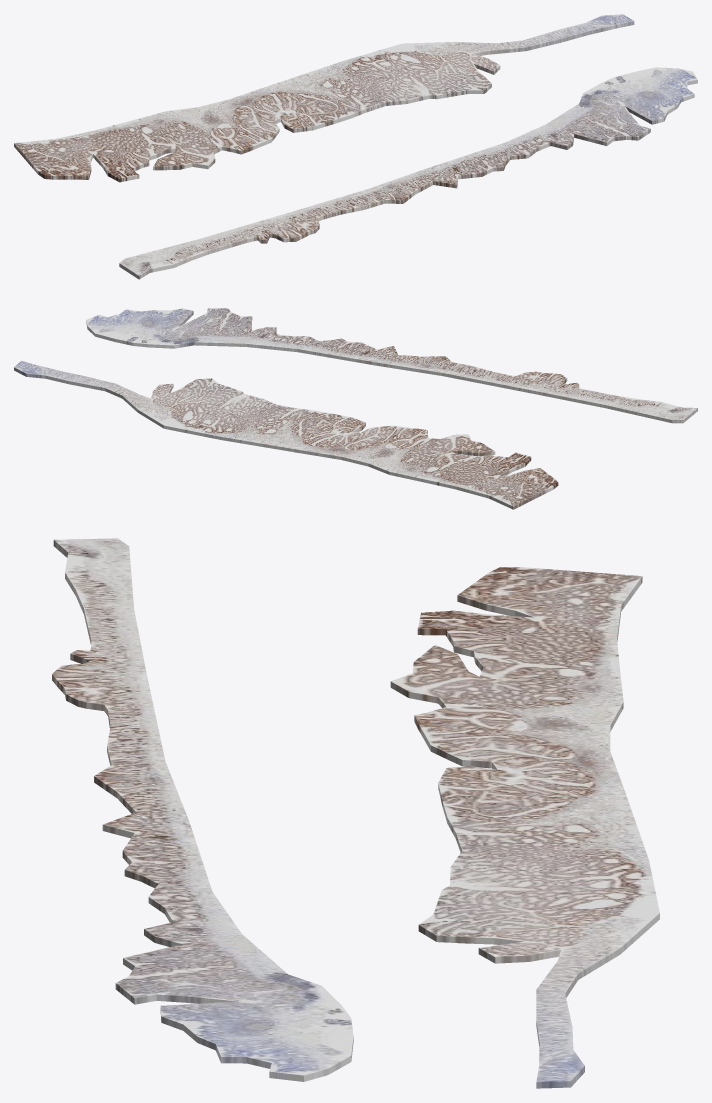
The picture shows the model from 3 angles, top to bottom: view 1: azimuth 30°, elevation 25°; view 2: azimuth 150°, elevation 25°; view 3: azimuth 270°, elevation 25°; orthographic projection. The views are drawn at different scales.
Visible parts, largest first — view 1: 平面; view 2: 平面; view 3: 平面.
Boxes of the visible parts, bbox=[...] form: 平面: bbox=[14, 14, 697, 279]; 平面: bbox=[14, 308, 697, 509]; 平面: bbox=[52, 538, 659, 1088].
Size of the model in its own units: 25.52 by 0.14 by 12.05.
1 material, 1 textured.
